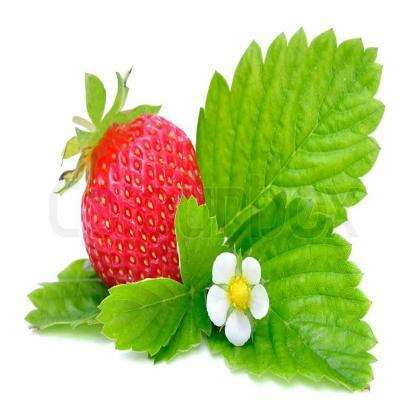Strawberry leaf: (191, 22, 387, 250), (214, 193, 378, 397), (99, 274, 195, 352), (174, 187, 223, 303)
